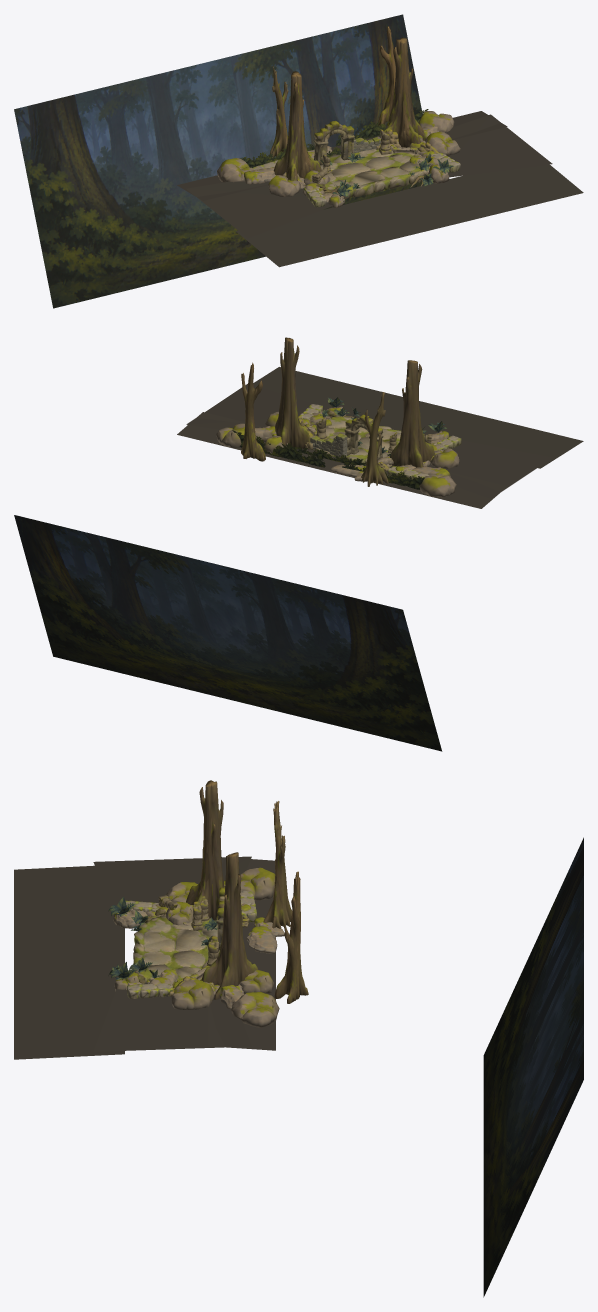
Rendered from SM_FR_EnvironmentLayout.fbx.
3 renders of one model, top to bottom at view 1: azimuth 30°, elevation 25°; view 2: azimuth 150°, elevation 25°; view 3: azimuth 270°, elevation 25°, orthographic. The views are drawn at different scales.
Parts seen in each view (by area): view 1: SM_FR_ForestBackdrop_FarForest, SM_FR_SoilUnderlayFront_LowerForegroundGround, SM_FR_LeftSoilUnderlay_LeftForestGround, SM_FR_RightSoilUnderlay_RightForestGround, SM_FR_Courtyard_MainCourtyard, SM_FR_TreeTrunkLarge_RightTrunk, SM_FR_TreeTrunkLarge_LeftTrunk, SM_FR_RearSoilUnderlay_RearForestGround, SM_FR_Arch_MainArch, SM_FR_TreeTrunkBent_LeftFarTrunk, SM_FR_TreeTrunkForked_RightFarTrunk, SM_FR_RockSplit_Outer_Left_Far (+6 smaller); view 2: SM_FR_ForestBackdrop_FarForest, SM_FR_SoilUnderlayFront_LowerForegroundGround, SM_FR_LeftSoilUnderlay_LeftForestGround, SM_FR_RearSoilUnderlay_RearForestGround, SM_FR_TreeTrunkLarge_LeftTrunk, SM_FR_RightSoilUnderlay_RightForestGround, SM_FR_TreeTrunkLarge_RightTrunk, SM_FR_Courtyard_MainCourtyard, SM_FR_TreeTrunkForked_RightFarTrunk, SM_FR_TreeTrunkBent_LeftFarTrunk, SM_FR_BrushCardRight_RearBrushRight, SM_FR_Arch_MainArch (+2 smaller); view 3: SM_FR_ForestBackdrop_FarForest, SM_FR_SoilUnderlayFront_LowerForegroundGround, SM_FR_RightSoilUnderlay_RightForestGround, SM_FR_LeftSoilUnderlay_LeftForestGround, SM_FR_Courtyard_MainCourtyard, SM_FR_TreeTrunkLarge_RightTrunk, SM_FR_TreeTrunkLarge_LeftTrunk, SM_FR_RearSoilUnderlay_RearForestGround, SM_FR_TreeTrunkForked_RightFarTrunk, SM_FR_TreeTrunkBent_LeftFarTrunk, SM_FR_RockSplit_Outer_Right_Far, SM_FR_RockSplit_Outer_Right_Mid (+2 smaller).
Boxes of the visible parts, x1,y1,x2,y2 form: SM_FR_ForestBackdrop_FarForest: (14,14,423,308); SM_FR_SoilUnderlayFront_LowerForegroundGround: (236,164,583,267); SM_FR_LeftSoilUnderlay_LeftForestGround: (186,181,344,238); SM_FR_RightSoilUnderlay_RightForestGround: (445,114,552,177); SM_FR_Courtyard_MainCourtyard: (320,149,429,198); SM_FR_TreeTrunkLarge_RightTrunk: (384,37,427,147); SM_FR_TreeTrunkLarge_LeftTrunk: (273,71,321,180); SM_FR_RearSoilUnderlay_RearForestGround: (177,111,507,200); SM_FR_Arch_MainArch: (313,120,354,165); SM_FR_TreeTrunkBent_LeftFarTrunk: (269,66,288,157); SM_FR_TreeTrunkForked_RightFarTrunk: (378,26,395,126); SM_FR_RockSplit_Outer_Left_Far: (217,158,253,182); SM_FR_ForestBackdrop_FarForest: (14,515,442,751); SM_FR_SoilUnderlayFront_LowerForegroundGround: (253,367,583,468); SM_FR_LeftSoilUnderlay_LeftForestGround: (397,440,552,498); SM_FR_RearSoilUnderlay_RearForestGround: (177,412,507,508); SM_FR_TreeTrunkLarge_LeftTrunk: (389,360,435,467); SM_FR_RightSoilUnderlay_RightForestGround: (186,384,328,429); SM_FR_TreeTrunkLarge_RightTrunk: (275,337,312,449); SM_FR_Courtyard_MainCourtyard: (313,415,401,467); SM_FR_TreeTrunkForked_RightFarTrunk: (241,362,265,461); SM_FR_TreeTrunkBent_LeftFarTrunk: (361,392,388,486); SM_FR_BrushCardRight_RearBrushRight: (232,430,325,467); SM_FR_Arch_MainArch: (344,414,383,460); SM_FR_ForestBackdrop_FarForest: (483,837,583,1297); SM_FR_SoilUnderlayFront_LowerForegroundGround: (14,865,124,1059); SM_FR_RightSoilUnderlay_RightForestGround: (93,982,251,1051); SM_FR_LeftSoilUnderlay_LeftForestGround: (93,856,251,924); SM_FR_Courtyard_MainCourtyard: (133,915,219,982); SM_FR_TreeTrunkLarge_RightTrunk: (201,852,258,999); SM_FR_TreeTrunkLarge_LeftTrunk: (186,780,224,920); SM_FR_RearSoilUnderlay_RearForestGround: (208,857,275,1050); SM_FR_TreeTrunkForked_RightFarTrunk: (274,871,308,1003); SM_FR_TreeTrunkBent_LeftFarTrunk: (263,801,292,928); SM_FR_RockSplit_Outer_Right_Far: (231,992,279,1027); SM_FR_RockSplit_Outer_Right_Mid: (171,979,213,1009).
Bounding box in the file's own units: 43.4 × 29.85 × 43.1.
Materials: 17 (16 with a texture image).
